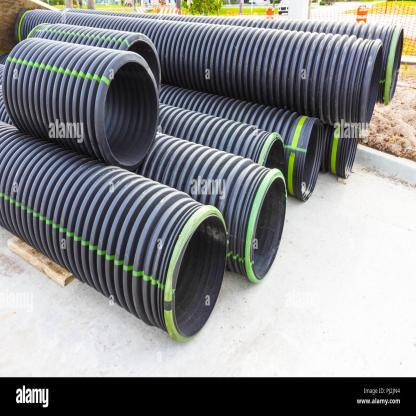PVC: (0, 7, 404, 342)
